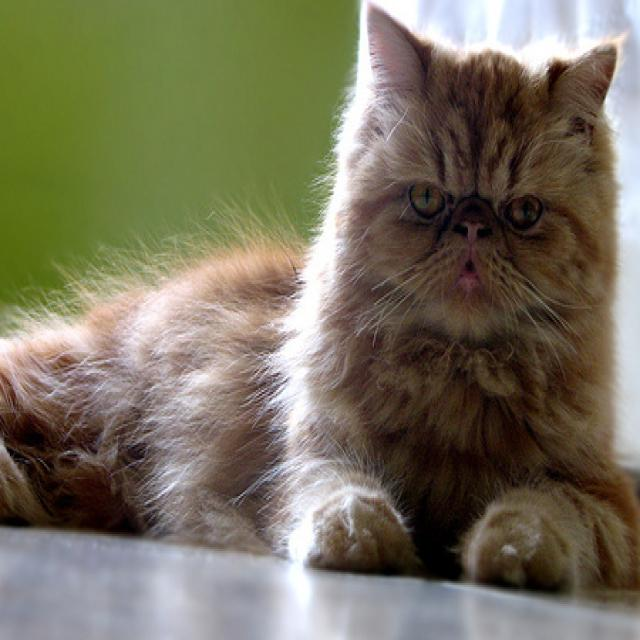Persian: (0, 0, 640, 600)
